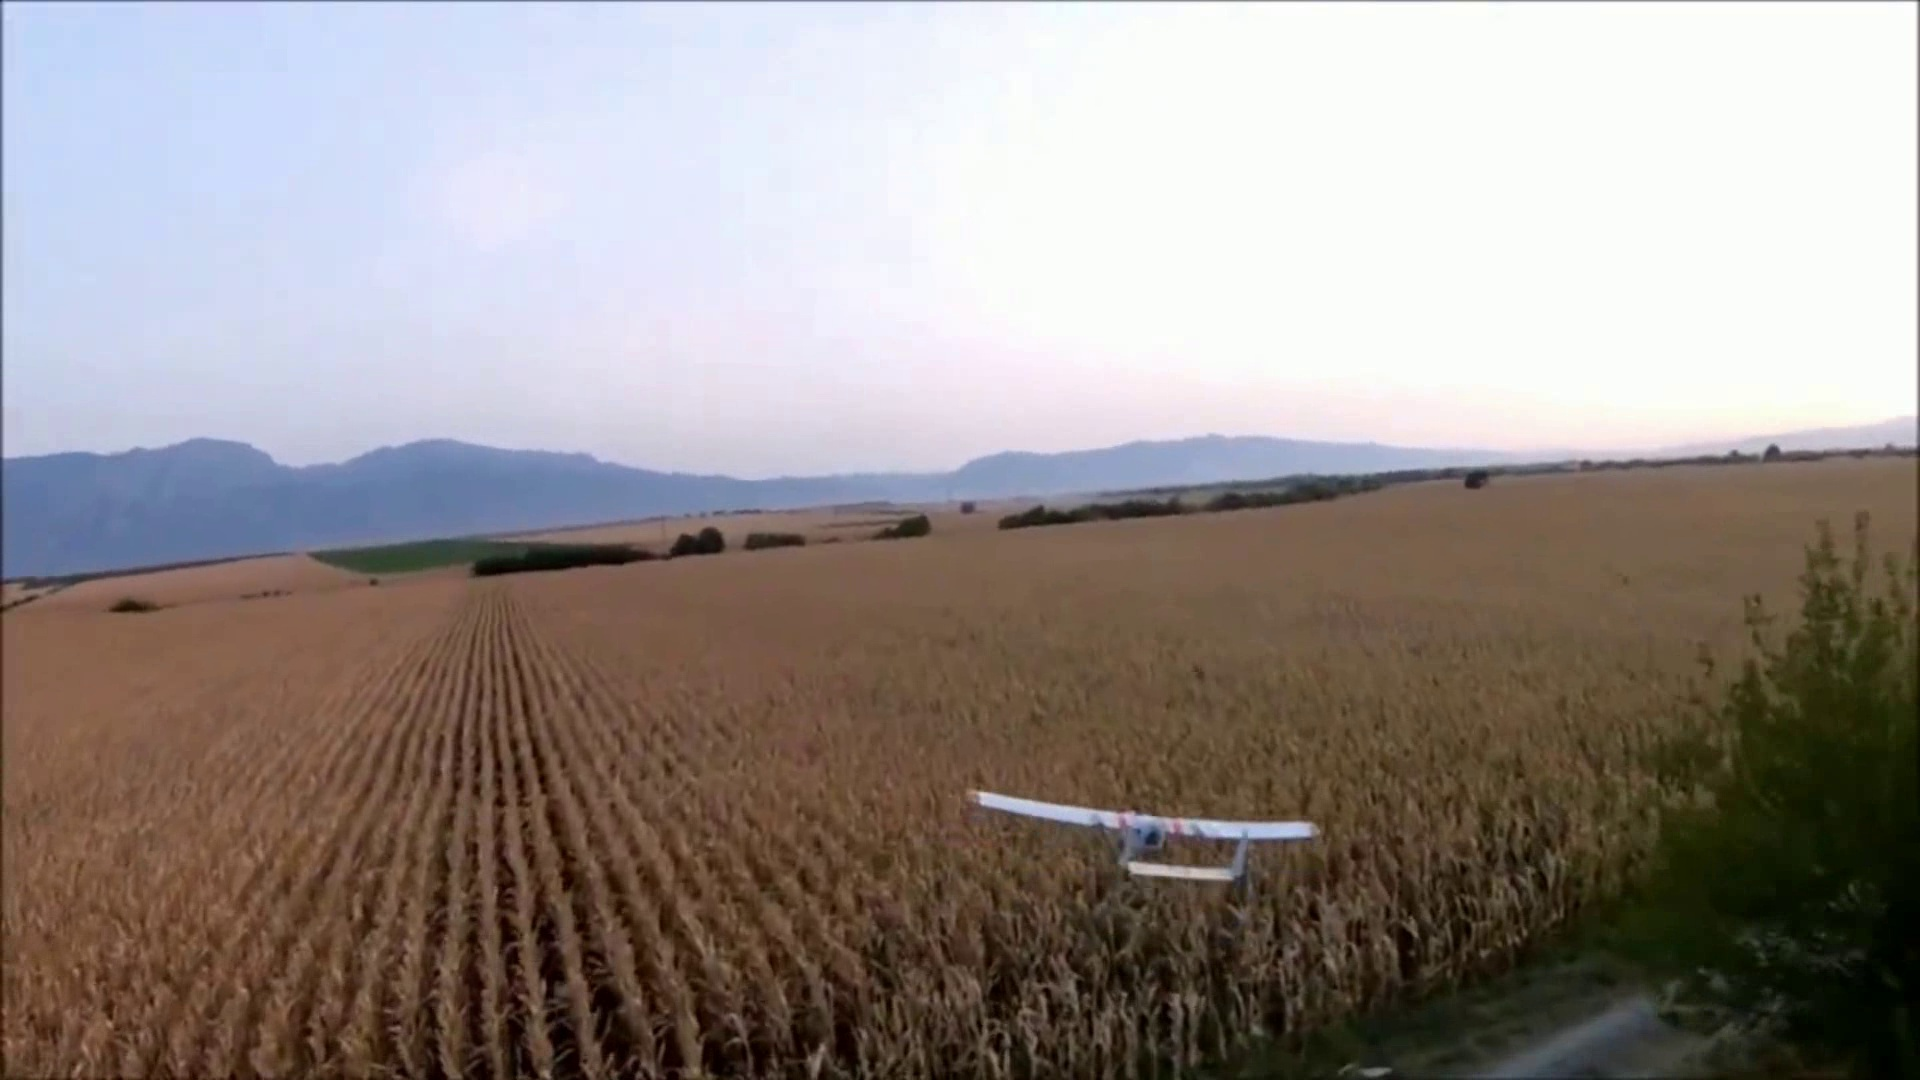airplane: (967, 791, 1320, 884)
